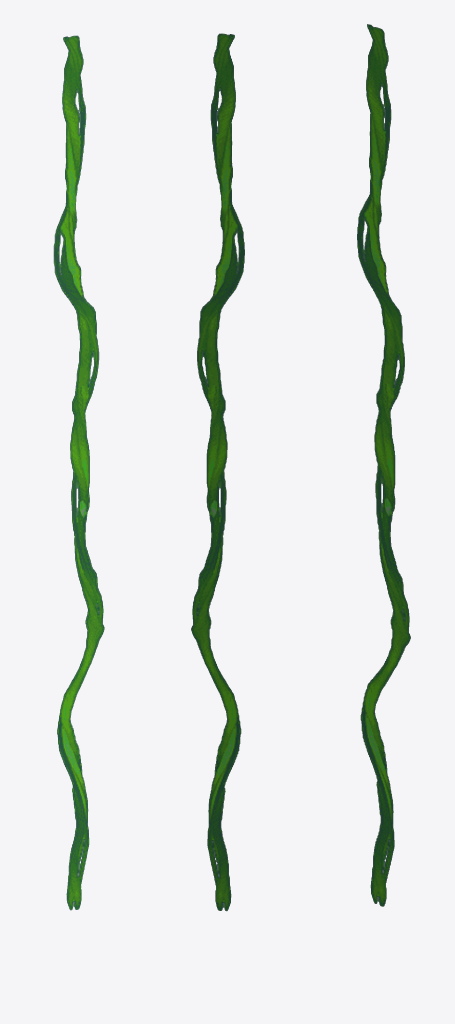
Rendered from ivy_6_dream.glb.
3 renders of one model, left to right at view 1: azimuth 30°, elevation 25°; view 2: azimuth 150°, elevation 25°; view 3: azimuth 330°, elevation 25°, orthographic.
Parts seen in each view (by area): view 1: Ivy_6; view 2: Ivy_6; view 3: Ivy_6.
Boxes of the visible parts, x1,y1,x2,y2 form: Ivy_6: (53, 35, 104, 910); Ivy_6: (191, 33, 244, 911); Ivy_6: (357, 24, 410, 906).
Size of the model in its own units: 0.4616 by 3.52 by 0.0195.
Materials: 1 (1 with a texture image).
